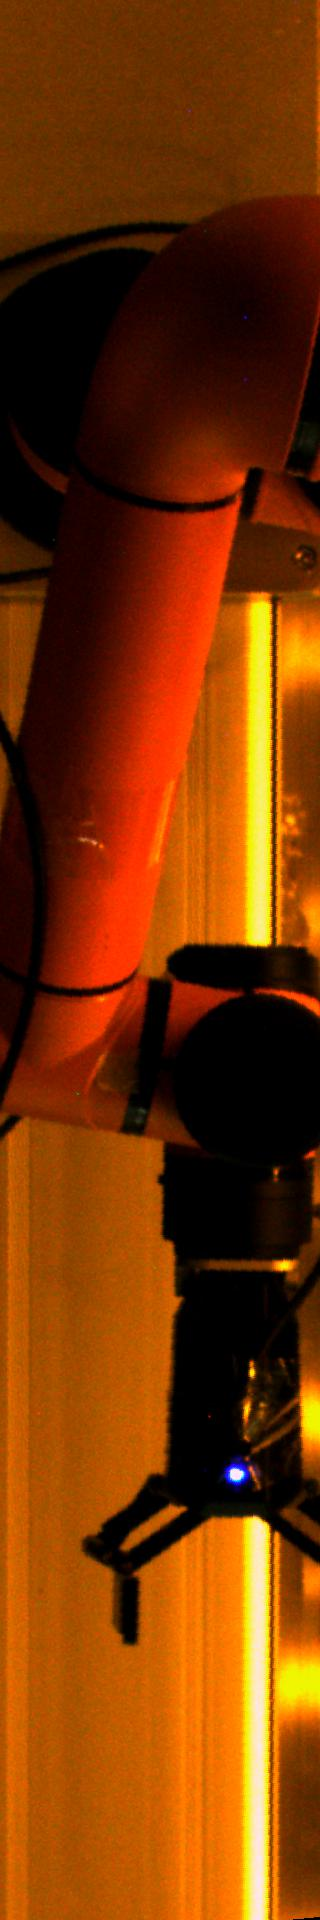keyPoint_1: (221, 1456, 251, 1487)
